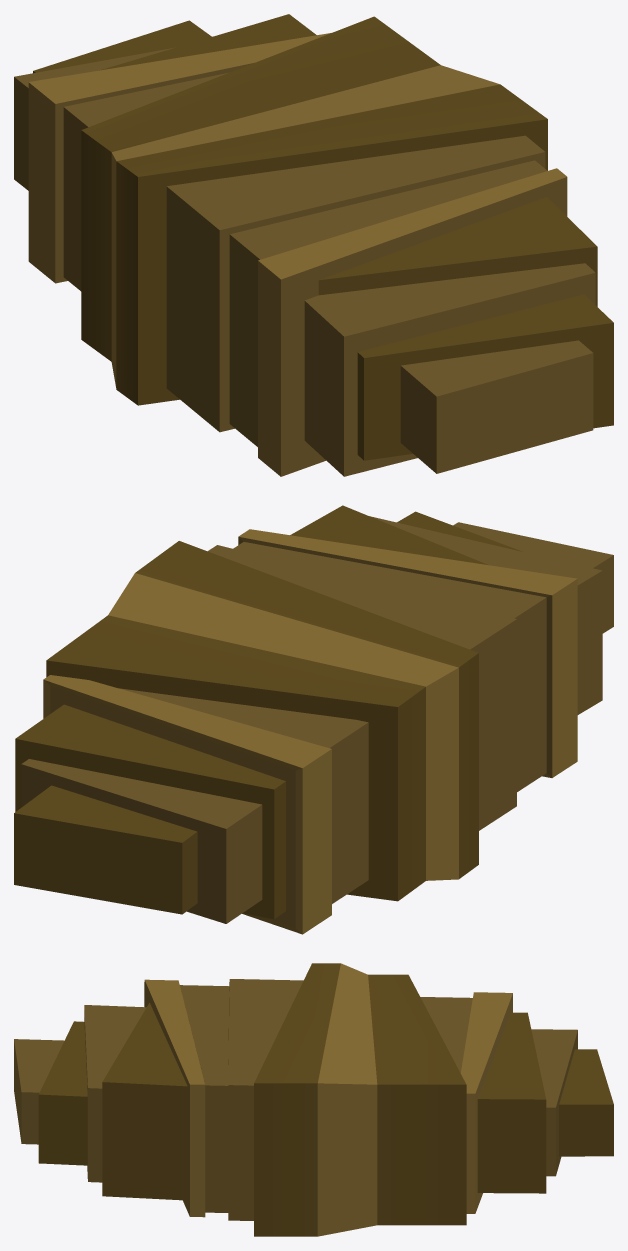
The model's file is Croissant Colombiano.fbx.
The picture shows the model from 3 angles, top to bottom: view 1: azimuth 30°, elevation 25°; view 2: azimuth 150°, elevation 25°; view 3: azimuth 270°, elevation 25°; orthographic projection. The views are drawn at different scales.
Visible parts, largest first — view 1: pCube76; view 2: pCube76; view 3: pCube76.
Part boxes in pixels (x1,y1,x2,y2): pCube76: (14, 14, 613, 476); pCube76: (14, 505, 613, 934); pCube76: (14, 963, 613, 1236).
Bounding box in the file's own units: 4.11 × 2.45 × 8.68.
